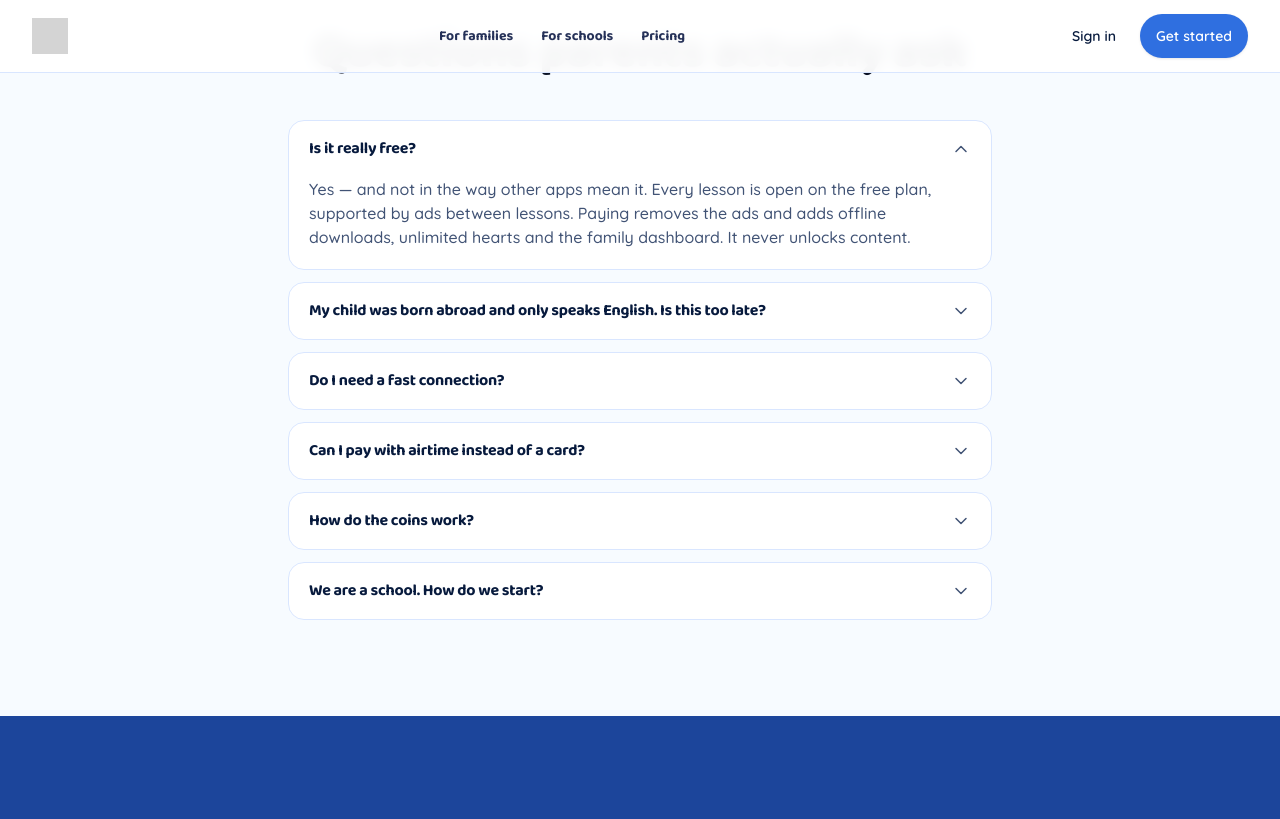
Test: LandingPage › expands an FAQ answer on demand
(page scrolled)
Click the button "Can I pay with airtime instead of a card?" at (447, 450), box [289, 423, 991, 479]
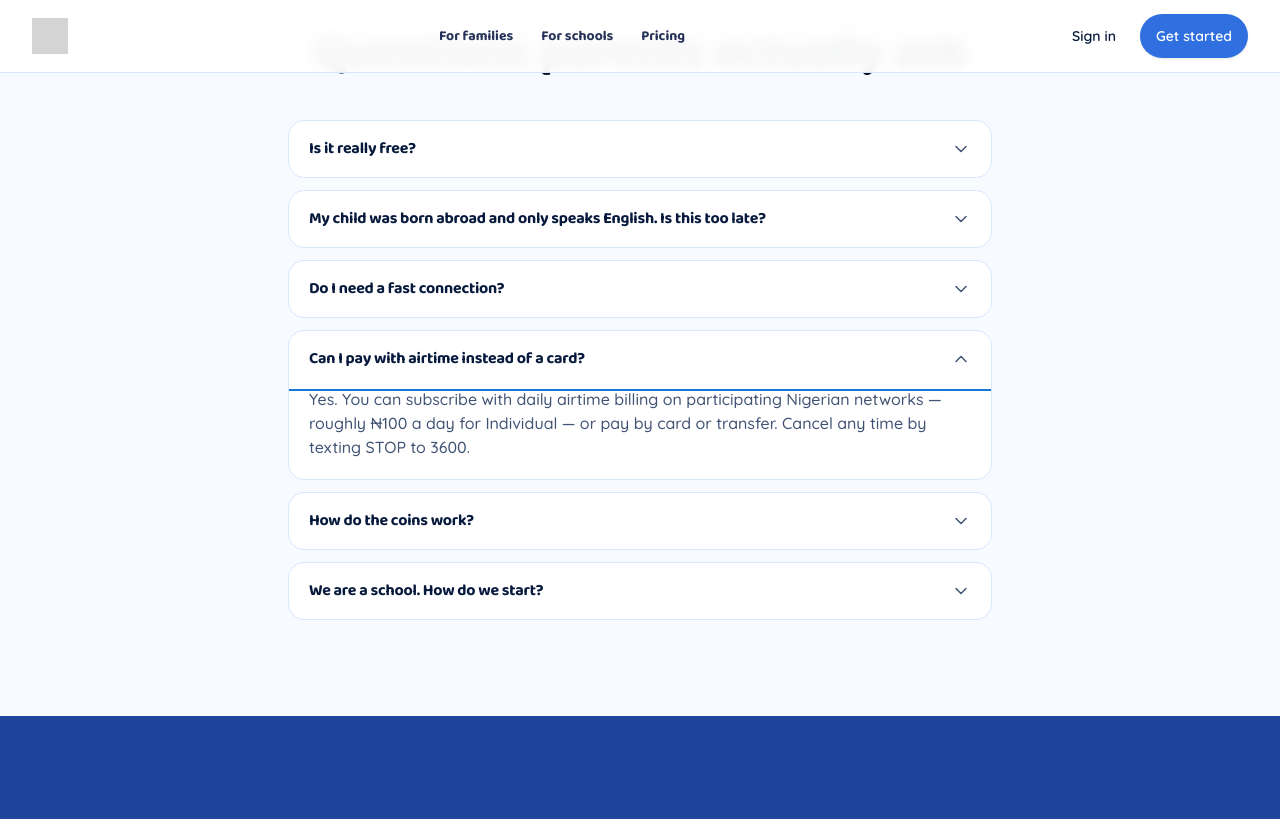
Expected: the button "Can I pay with airtime instead of a card?" is expanded, [289, 331, 991, 387]
Expected: the text "airtime billing" is shown, [309, 389, 942, 457]
